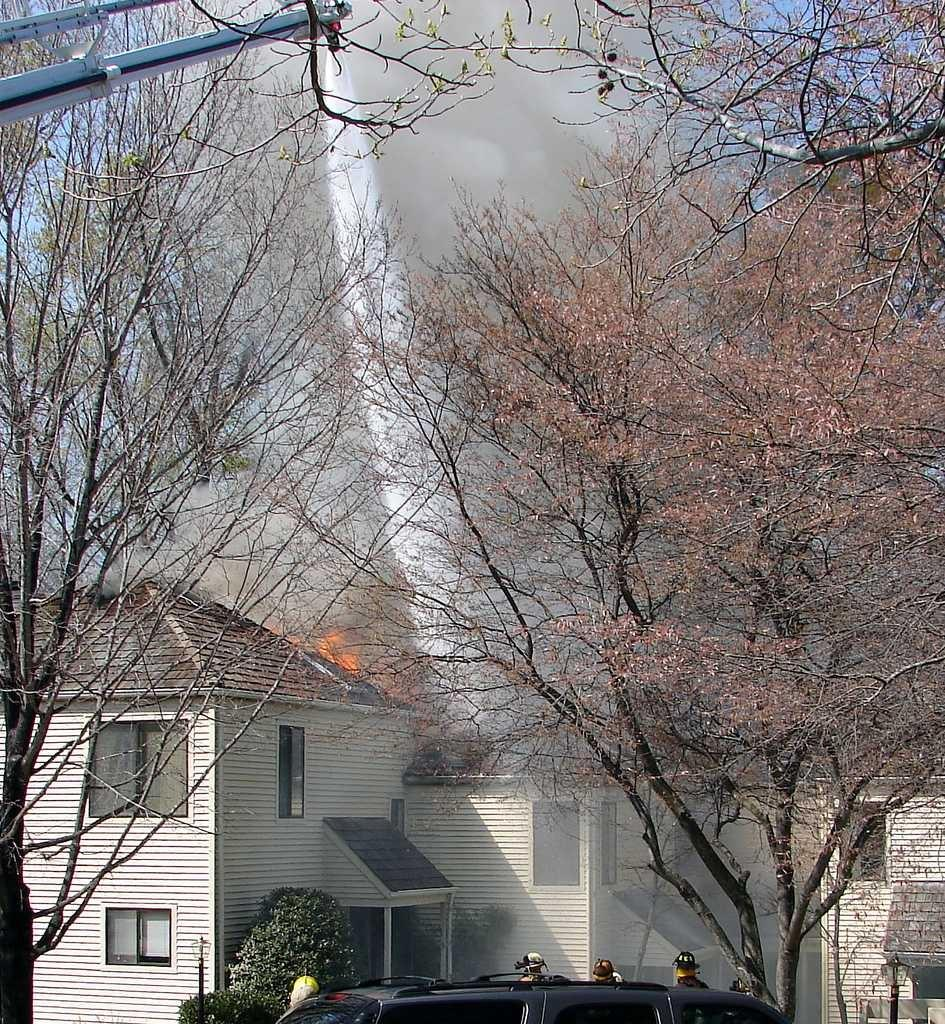smoke: (430, 118, 567, 195)
